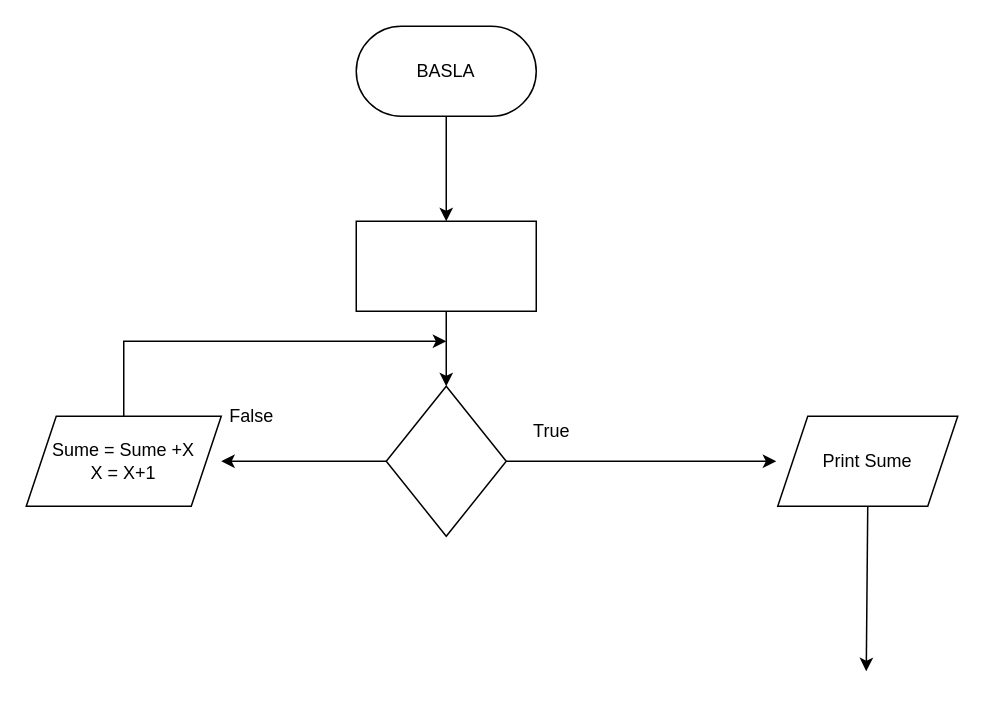
Some shapes in this 984 by 710 pixel diagram are drawn without their labels. Each missing label, with the centre of its shape:
"Sume=0 X=1" goes at pixel 445 265.
"x<=100" goes at pixel 445 460.
